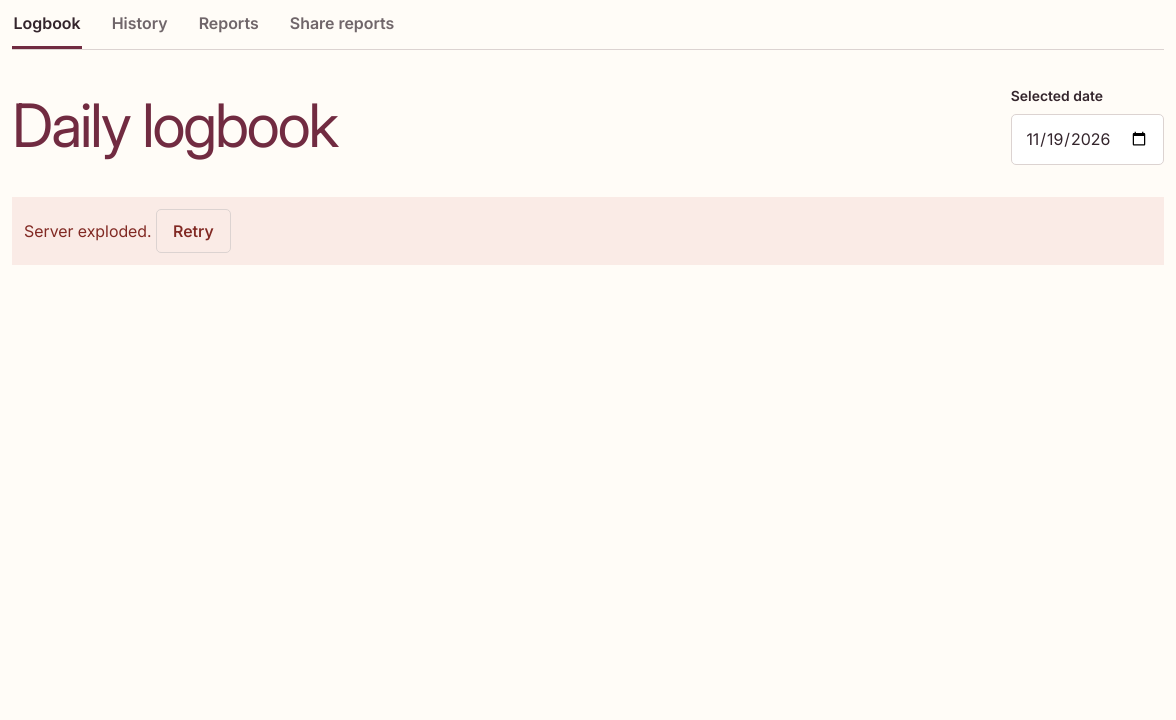
Scenario: reading form › shows a load error and retries
The image size is (1176, 720).
Expected: the text "Server exploded." is shown, x1=24 y1=221 x2=152 y2=241
Click the button "Retry": (193, 231) x1=156 y1=209 x2=231 y2=253
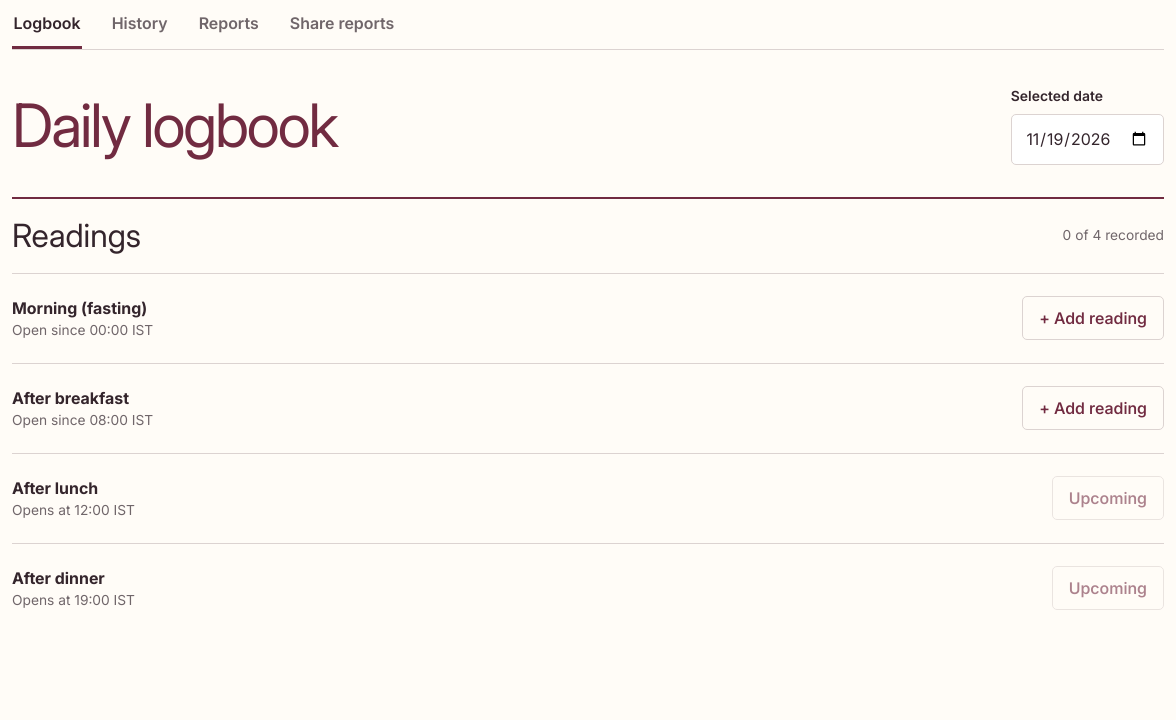
Result: the heading "Readings" is shown at x1=12 y1=219 x2=141 y2=253
Result: the message "Server exploded. Retry" is gone
